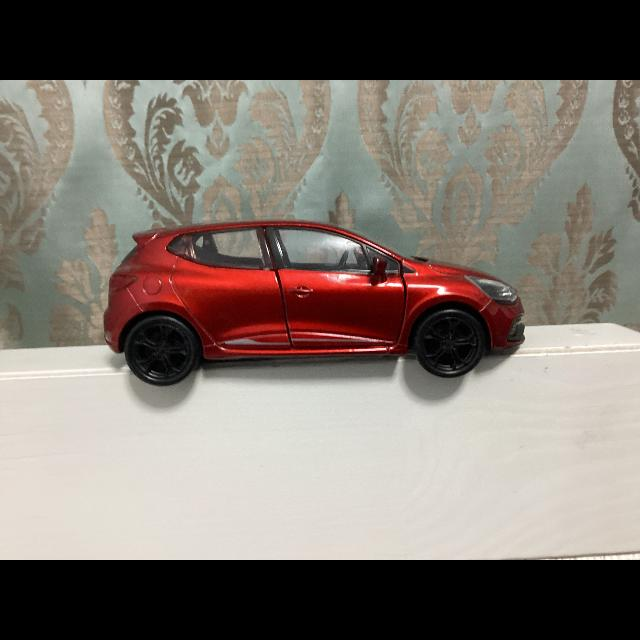Dogru_Jant: (423, 316, 477, 370), (132, 324, 186, 378)
